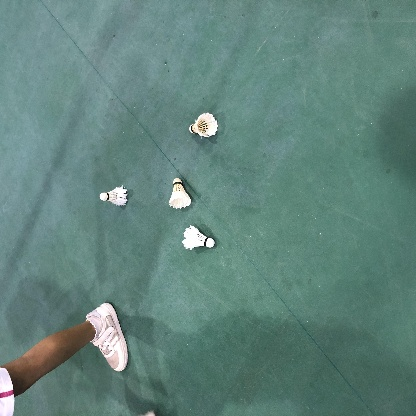ball_single: (182, 225, 214, 251), (189, 113, 218, 137), (169, 178, 191, 209), (100, 186, 128, 206)
